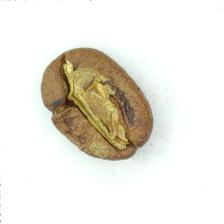NG: (60, 55, 136, 151)
